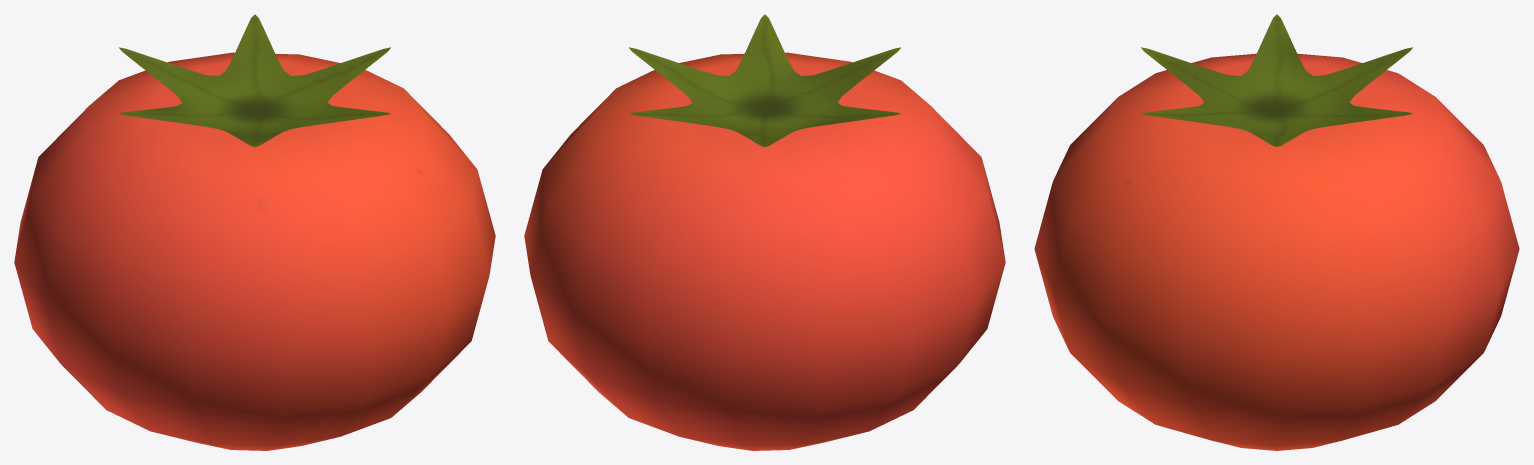
The model's file is Tomato.fbx.
The picture shows the model from 3 angles, left to right: view 1: azimuth 30°, elevation 25°; view 2: azimuth 150°, elevation 25°; view 3: azimuth 270°, elevation 25°; orthographic projection.
Parts seen in each view (by area): view 1: Tomato; view 2: Tomato; view 3: Tomato.
Part boxes in pixels (x1,y1,x2,y2): Tomato: [14, 14, 495, 450]; Tomato: [524, 14, 1005, 450]; Tomato: [1034, 14, 1519, 450].
Size of the model in its own units: 263 by 206 by 263.
Materials: 1 (1 with a texture image).
